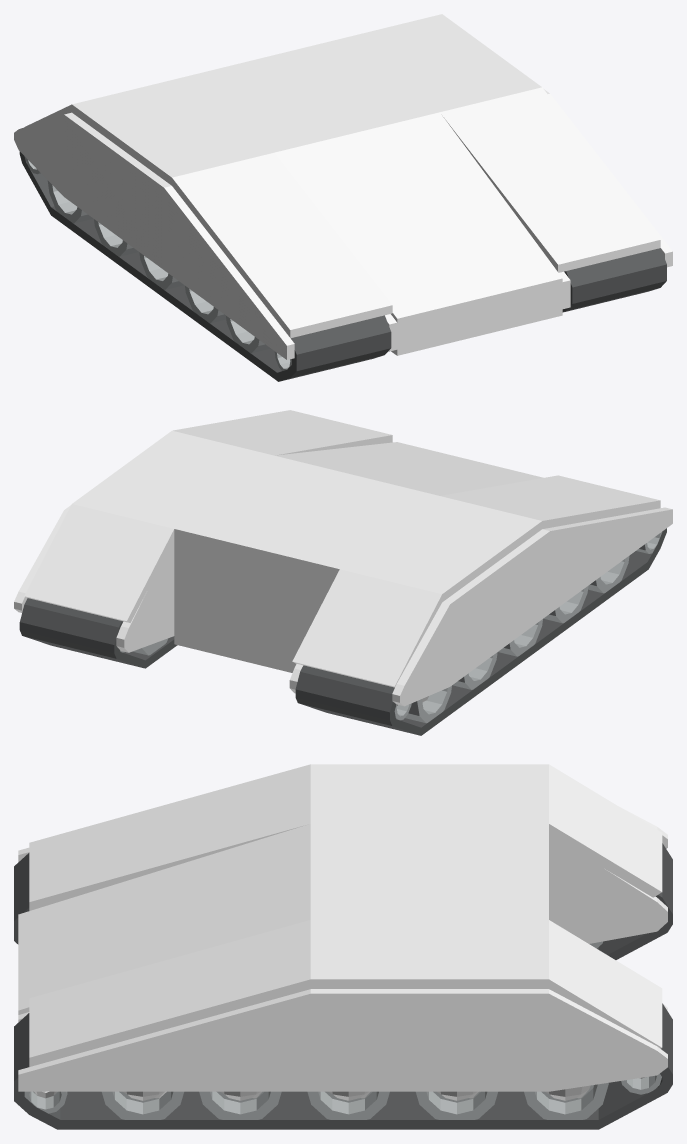
File: Mamont.dae
3 renders of one model, top to bottom at view 1: azimuth 30°, elevation 25°; view 2: azimuth 150°, elevation 25°; view 3: azimuth 270°, elevation 25°, orthographic. The views are drawn at different scales.
Parts seen in each view (by area): view 1: cube_selection (×2), cube, tracks (×2), wheel (×5); view 2: cube_selection (×2), cube, tracks (×2), wheel (×5); view 3: cube_selection (×2), cube, tracks (×2), wheel (×7).
Boxes of the visible parts, x1=… form: cube_selection (×2): x1=14, y1=14, x2=672, y2=359; cube: x1=174, y1=39, x2=562, y2=355; tracks (×2): x1=19, y1=151, x2=666, y2=381; wheel (×5): x1=47, y1=180, x2=270, y2=353; cube_selection (×2): x1=14, y1=410, x2=672, y2=706; cube: x1=174, y1=442, x2=543, y2=672; tracks (×2): x1=19, y1=528, x2=666, y2=735; wheel (×5): x1=405, y1=555, x2=629, y2=723; cube_selection (×2): x1=18, y1=764, x2=667, y2=1091; cube: x1=18, y1=823, x2=548, y2=1014; tracks (×2): x1=14, y1=843, x2=672, y2=1129; wheel (×7): x1=24, y1=1073, x2=661, y2=1119.
Size of the model in its own units: 3.06 by 0.958 by 3.8.
1 material, 1 textured.
